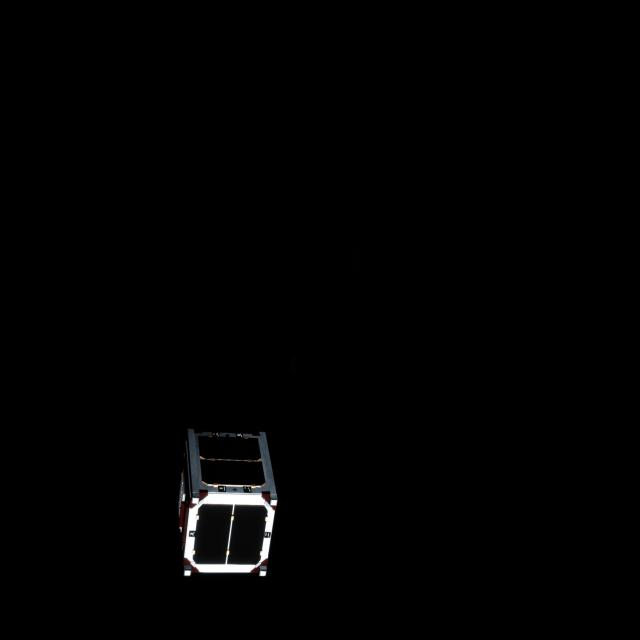medium_debris: (170, 425, 282, 583)
